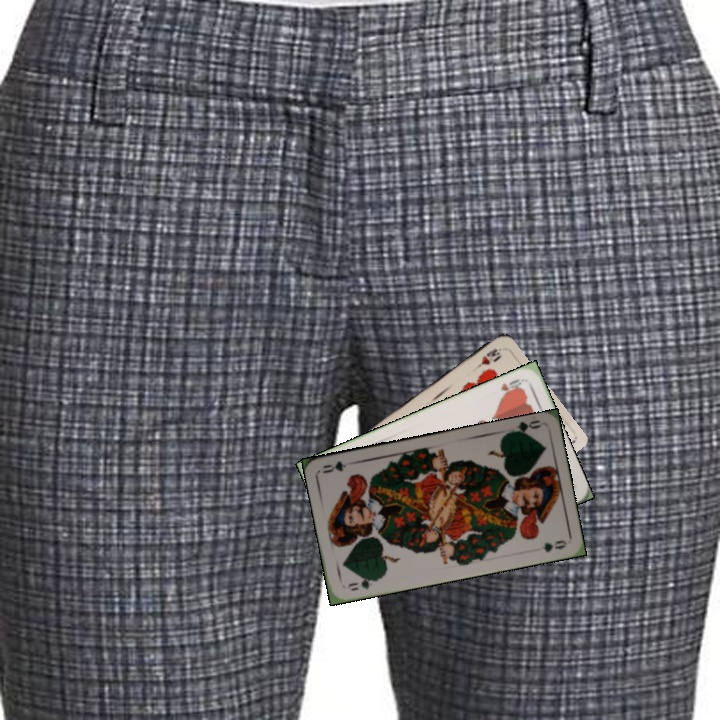GO: (504, 416, 544, 438), (344, 574, 382, 594)
H10: (468, 345, 501, 375)
HO: (497, 375, 526, 399)
